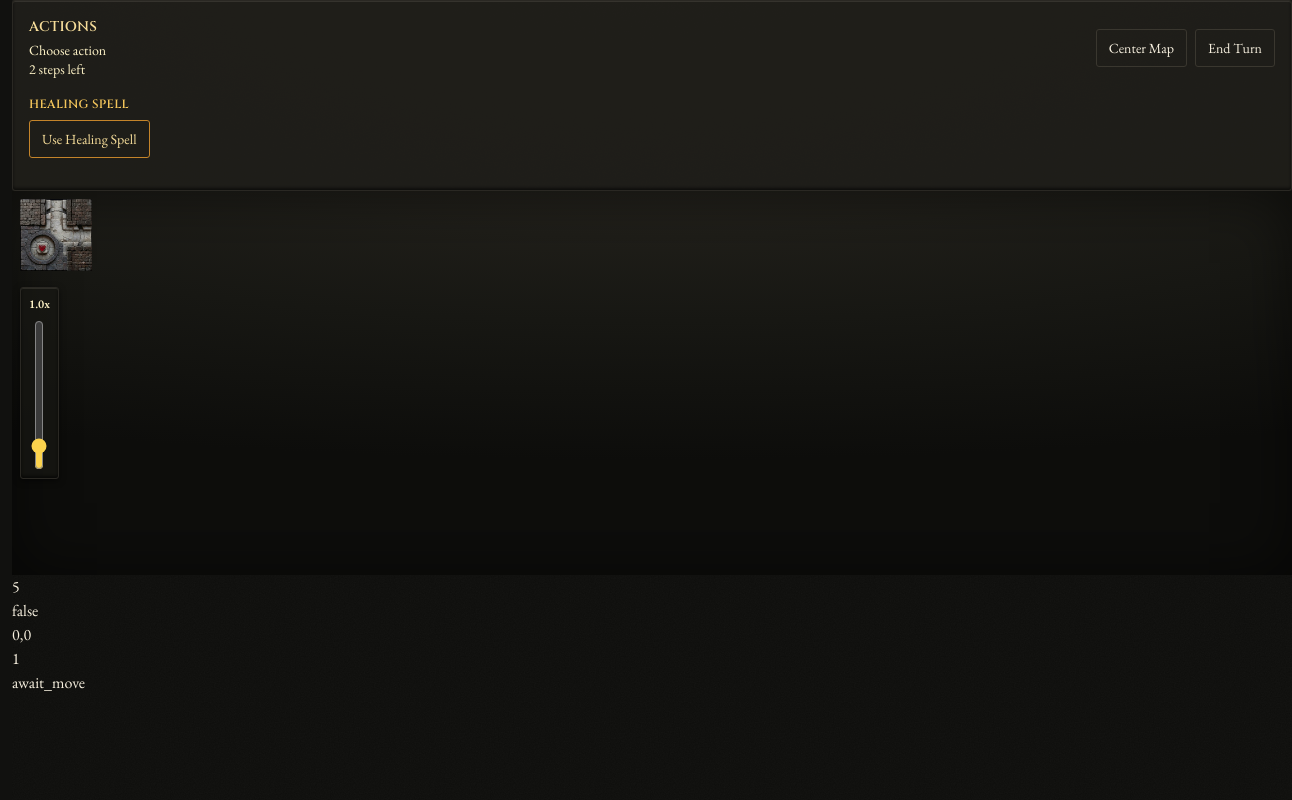
Test: Milestone 6 UI › offers exploration again after self-healing when the healing tile can explore
Click the button "Use Healing Spell" at (89, 138), box [29,120,150,158]
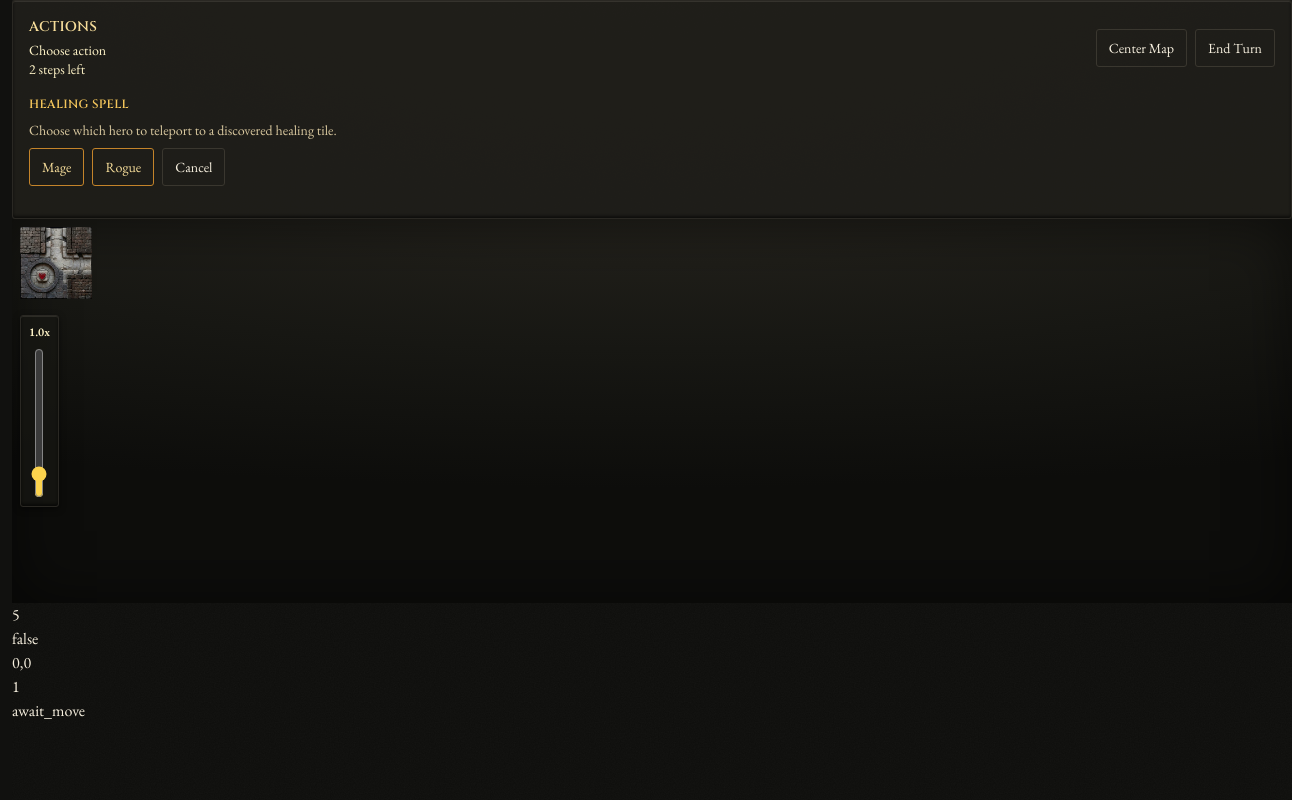
Click the button "Mage" at (57, 166), box [29,148,84,186]
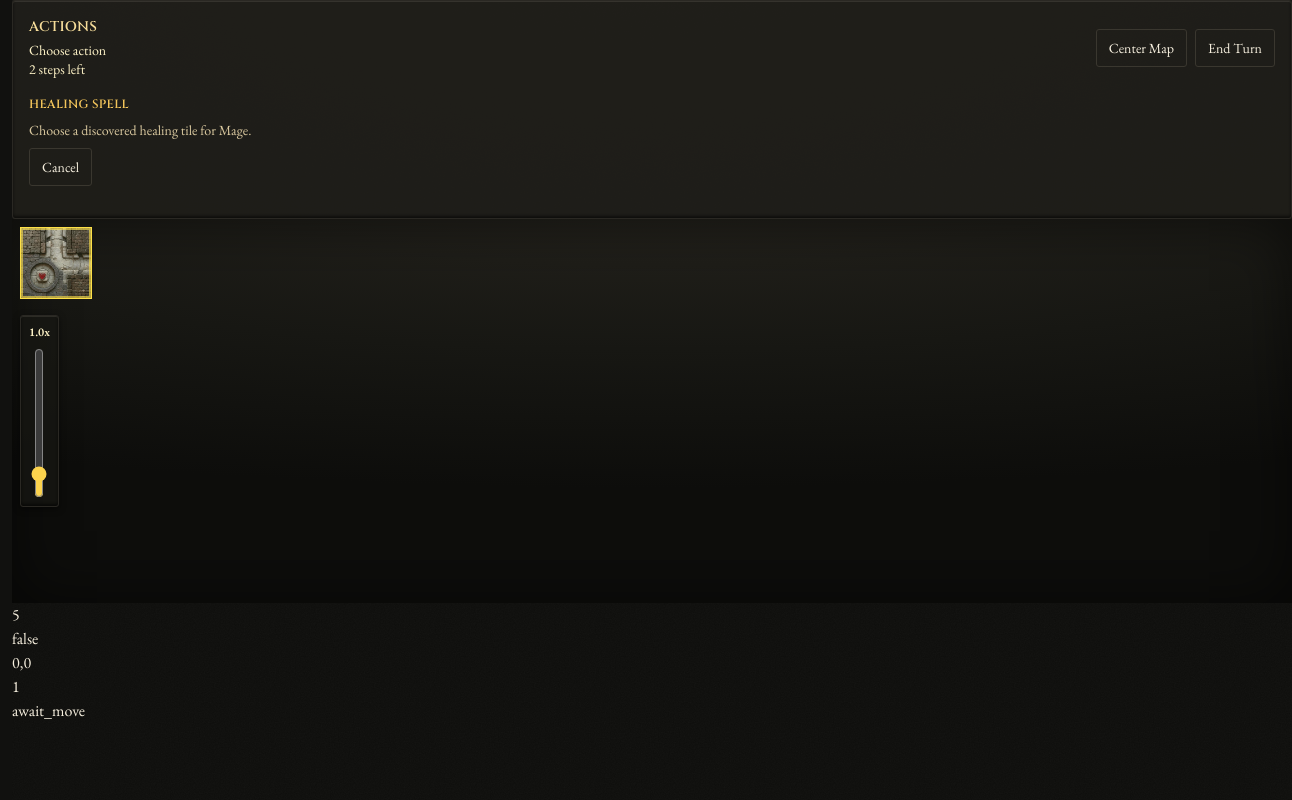
Click the button named "Select healing tile 1,0" at (56, 262), box [20,226,92,298]
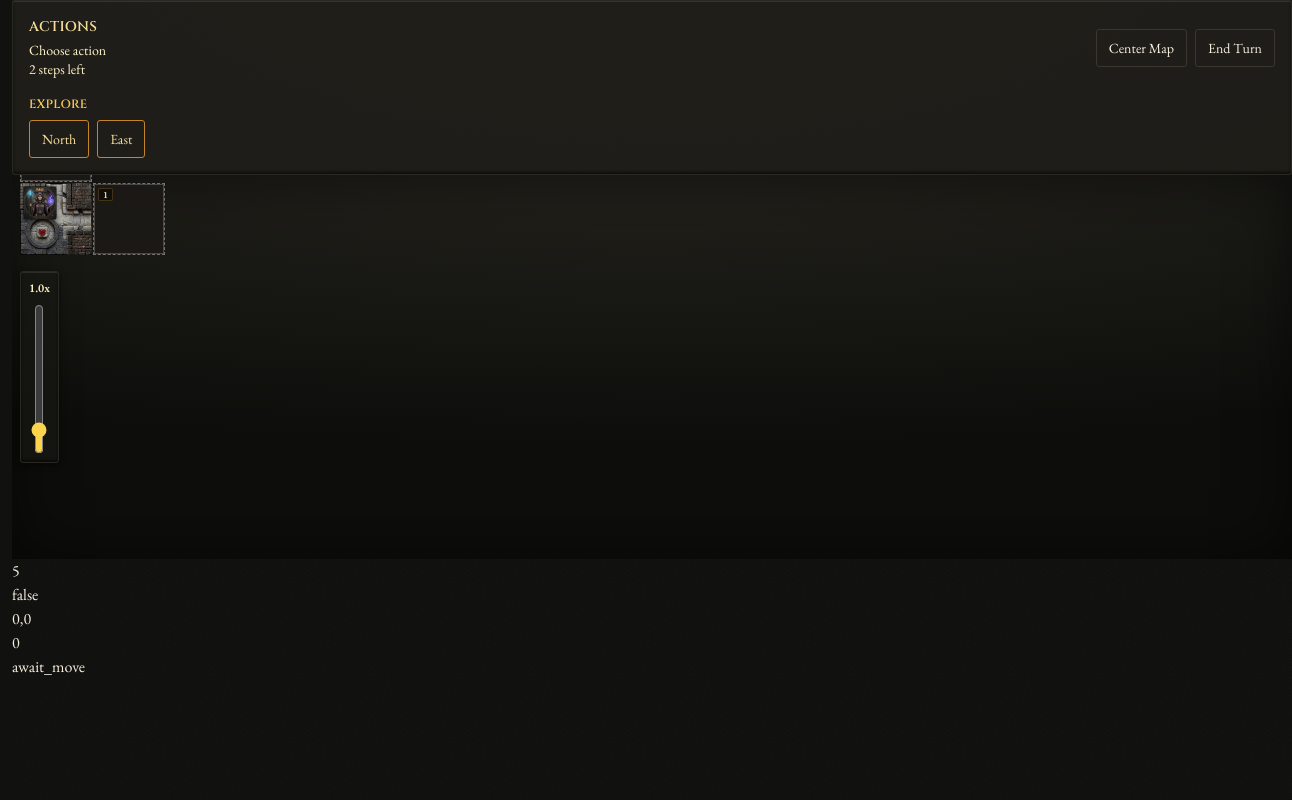
Expected: the button "Select healing tile 1,0" is not shown
Expected: the heading "Explore" is shown, [29,96,88,112]
Expected: the button "North" is shown, [29,120,89,158]
